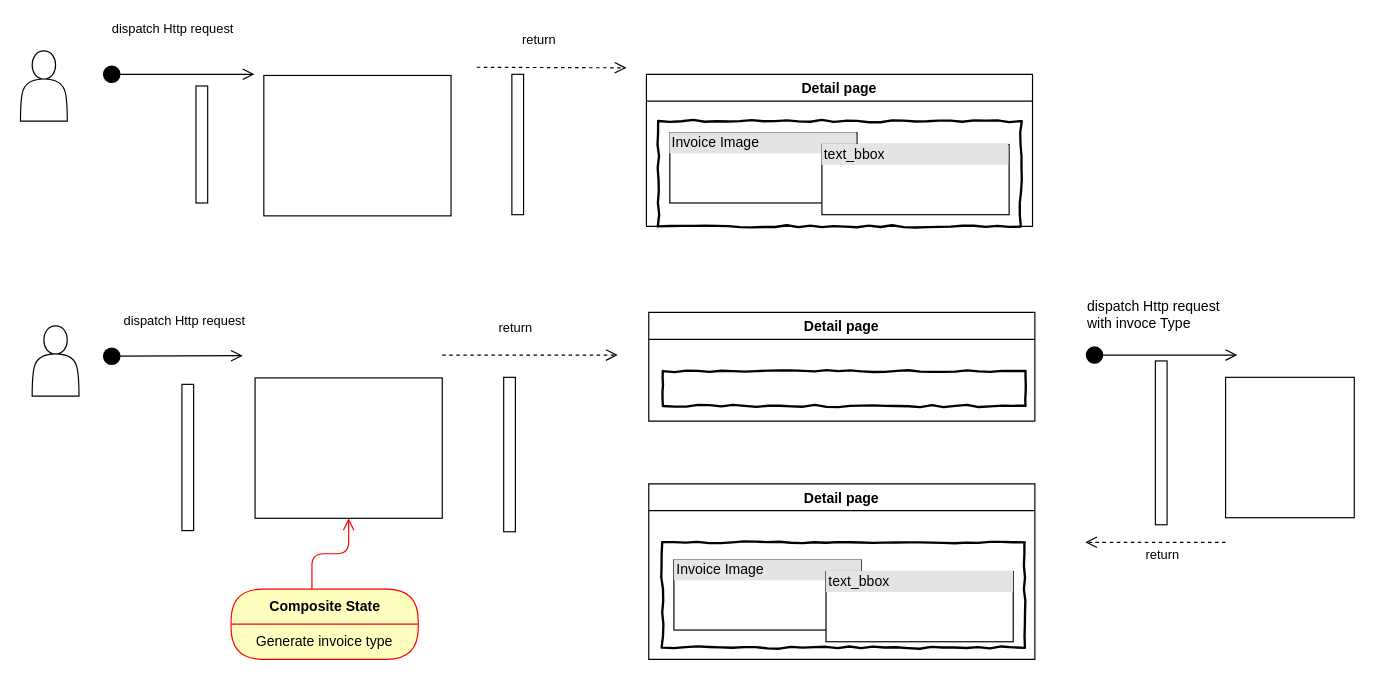
Some shapes in this 1375 by 680 pixel diagram are drawn without their labels. Here are the shapes that lost their labels. From the top down, the centre of each, then its label:
At [357,145]: "<<Interface>> task_result + field1:jsonResult +field1:imgURL".
At [843,388]: "loading".
At [348,447]: "<<Interface>> task_result + field1:jsonResult +field1:imgURL + invoiceType".
At [1289,447]: "<<Interface>> Invoive Type + invoiceType + textBboxTemplate".
